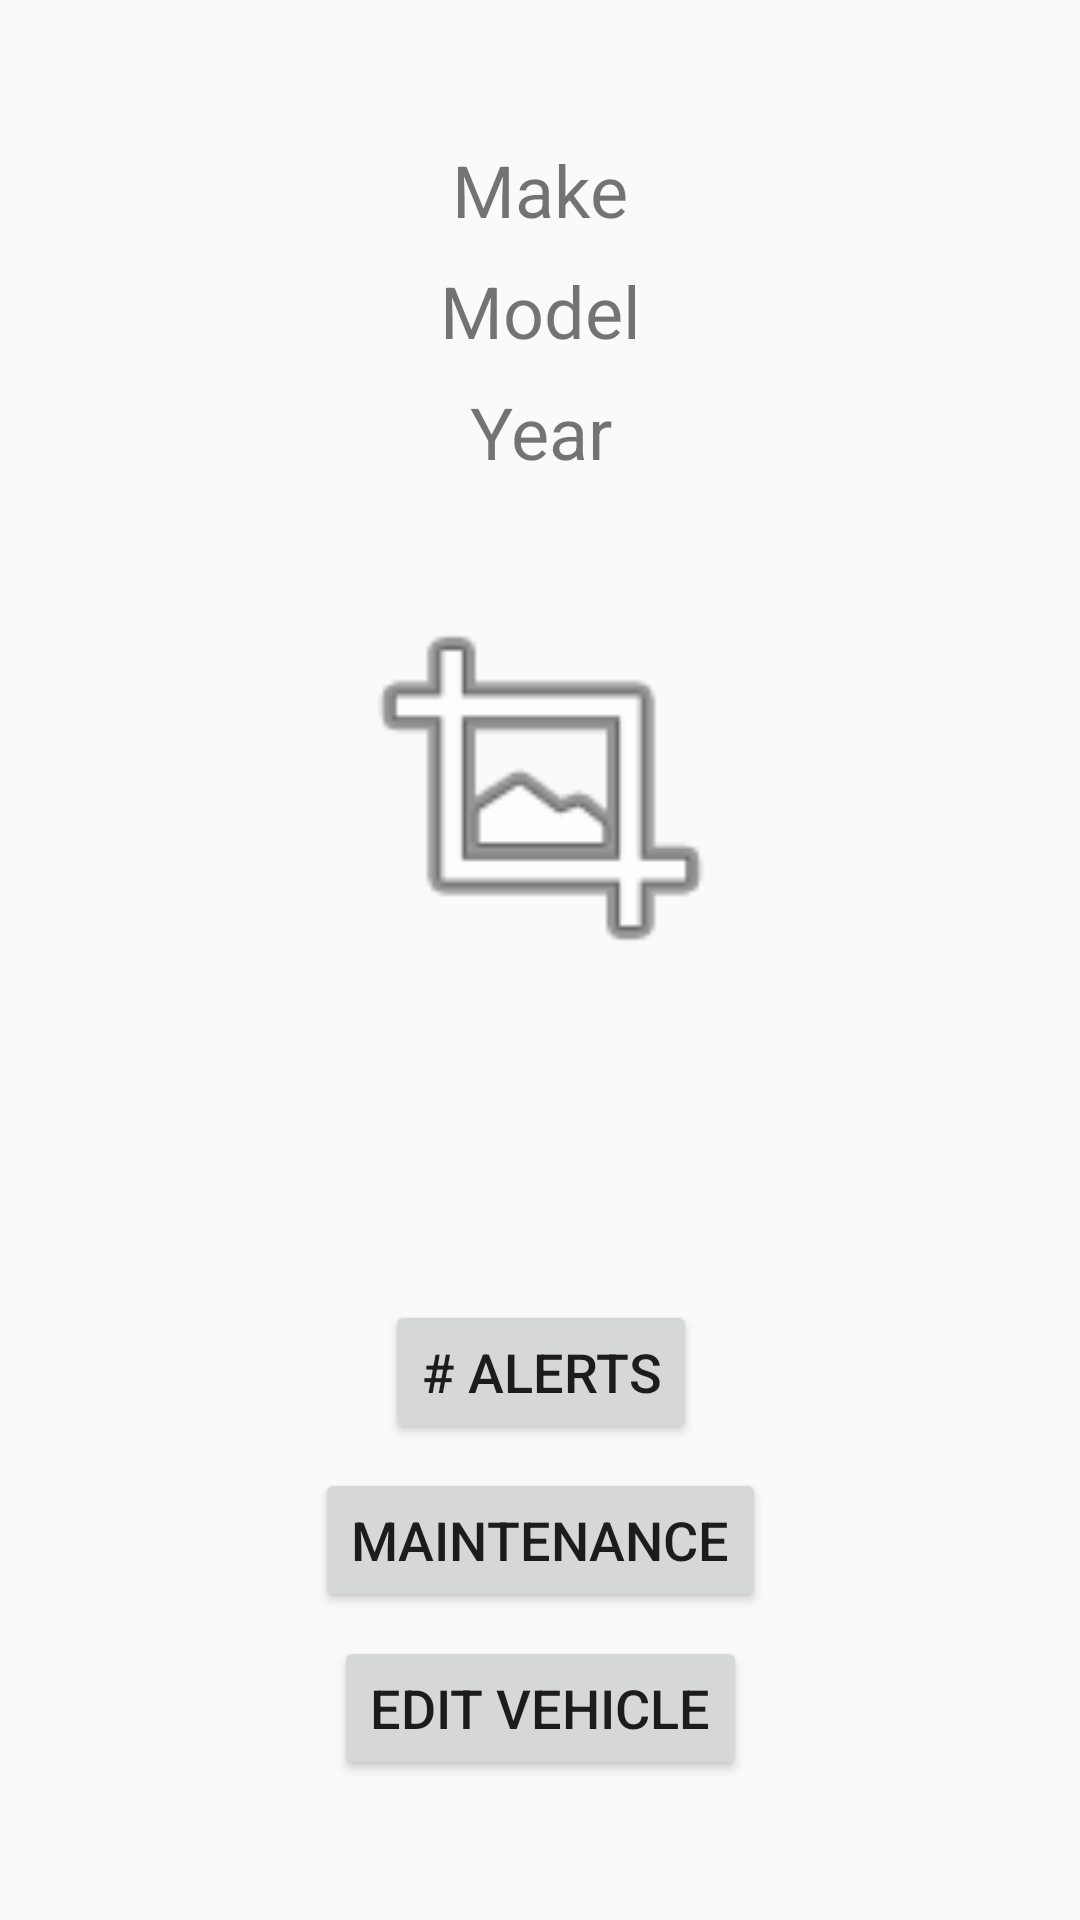

Named icons in this screenshot (1080 x 1920) and their centers, point (x, y):
crop: point (541, 788)
